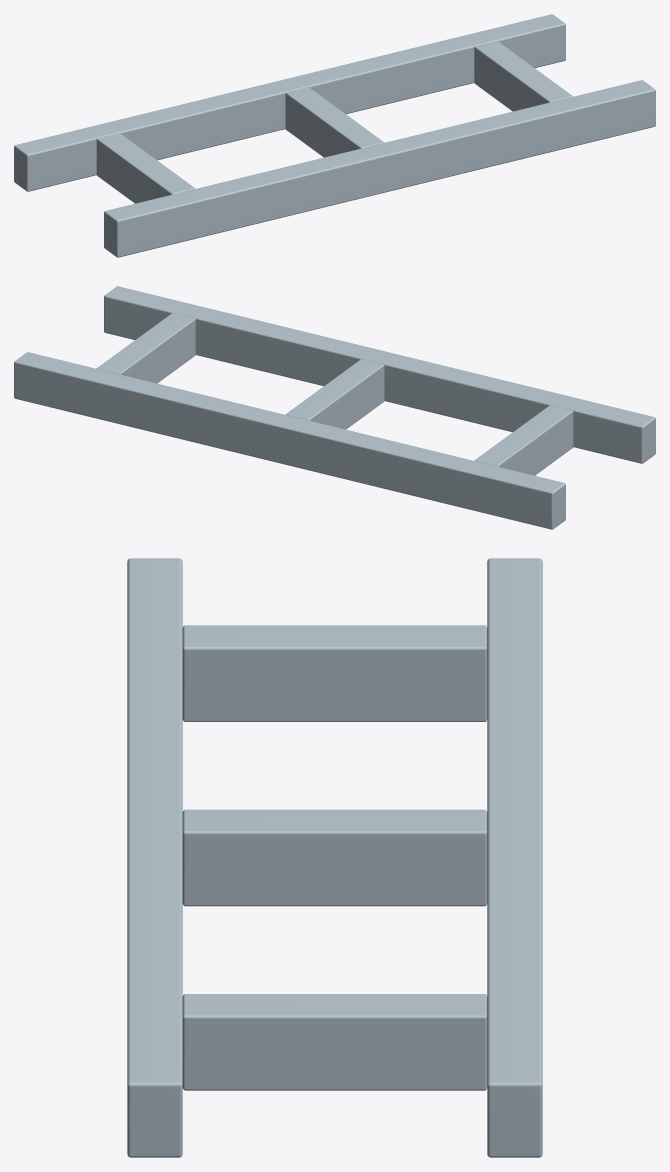
File: chassis-formed.glb
3 renders of one model, top to bottom at view 1: azimuth 30°, elevation 25°; view 2: azimuth 150°, elevation 25°; view 3: azimuth 270°, elevation 25°, orthographic. The views are drawn at different scales.
Parts seen in each view (by area): view 1: chassis_formed_Product_Metal; view 2: chassis_formed_Product_Metal; view 3: chassis_formed_Product_Metal.
Part boxes in pixels (<box>): chassis_formed_Product_Metal: <box>14,14,655,257</box>; chassis_formed_Product_Metal: <box>14,286,655,529</box>; chassis_formed_Product_Metal: <box>127,558,542,1157</box>.
Bounding box in the file's own units: 1.8 × 0.12 × 0.6.
